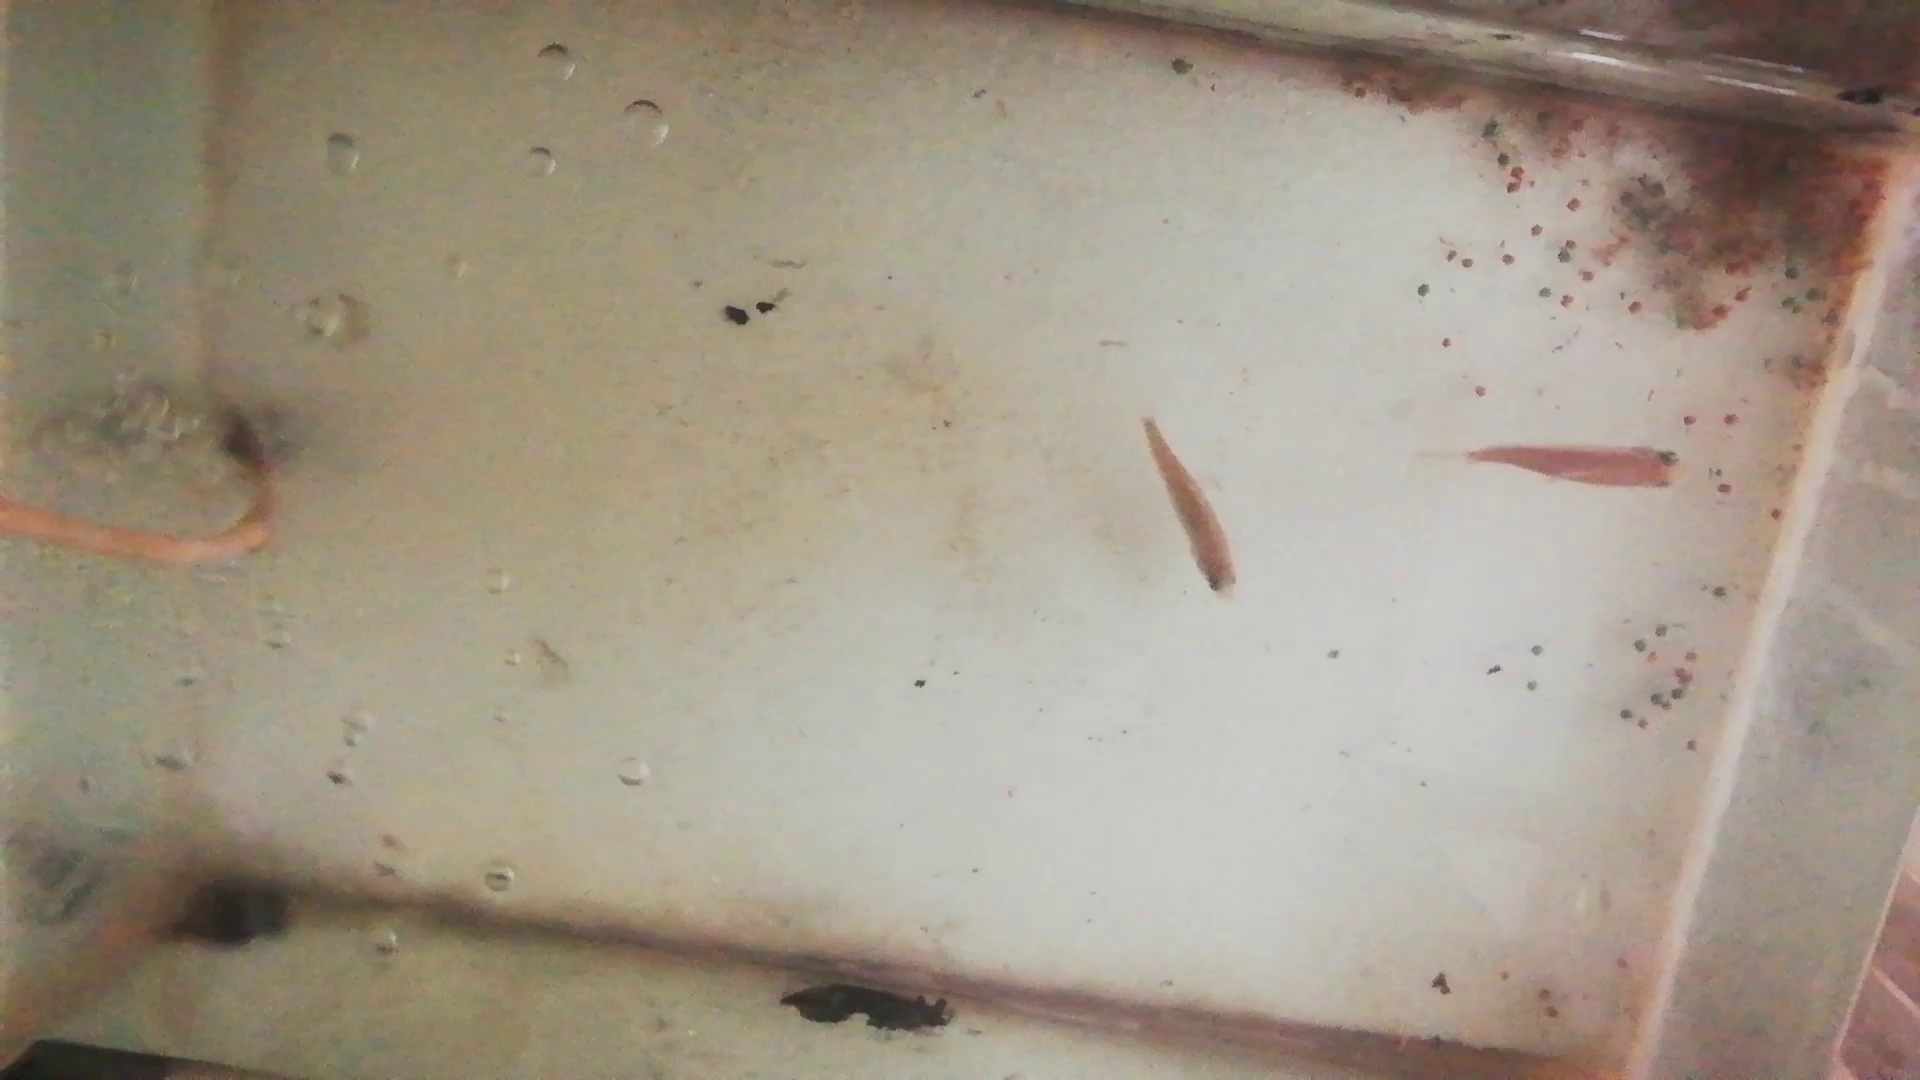fish: (1138, 411, 1240, 600), (1464, 440, 1691, 501)
